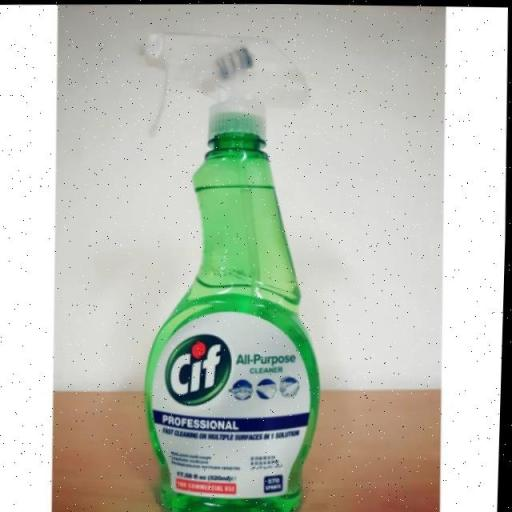plastic: (122, 21, 347, 512)
